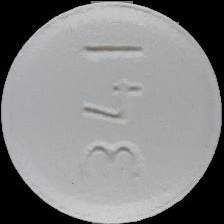63187-500: (0, 0, 224, 224)
